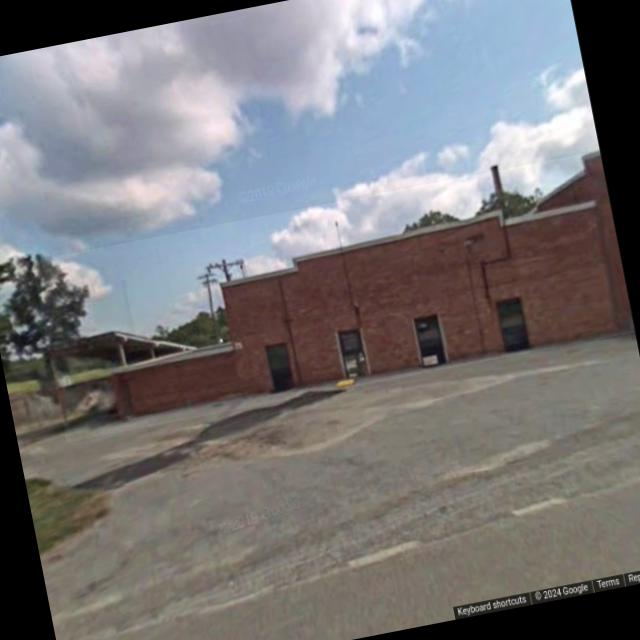House: (31, 150, 636, 442)
